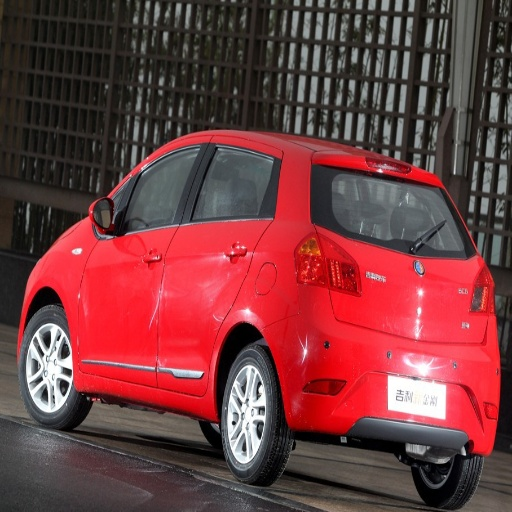back_left_door: (158, 140, 276, 396)
back_right_door: (318, 171, 363, 247)
front_glass: (360, 186, 473, 256)
hood: (416, 257, 486, 339)
trunk: (334, 250, 476, 383)
